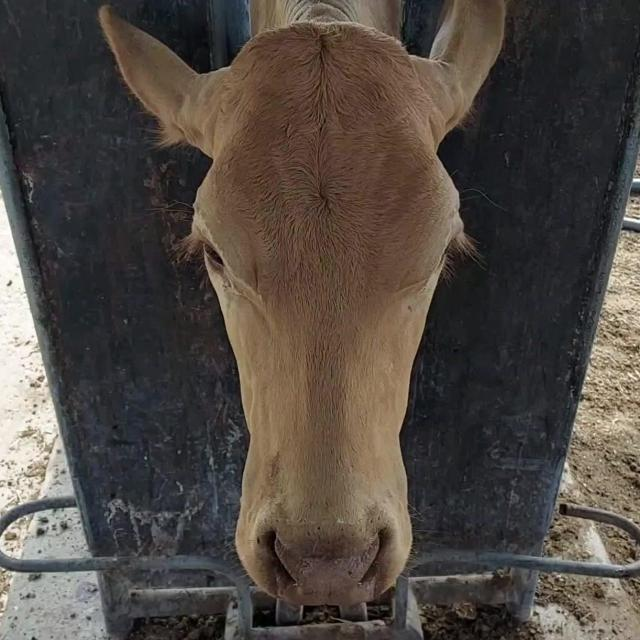cowFace: (192, 22, 459, 602)
